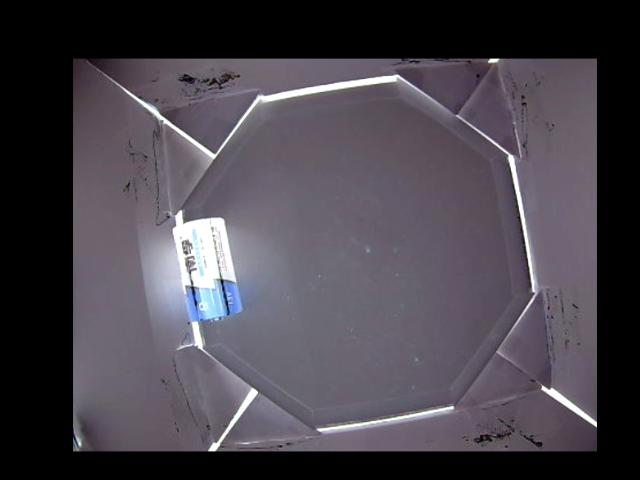Battery: (172, 215, 242, 324)
